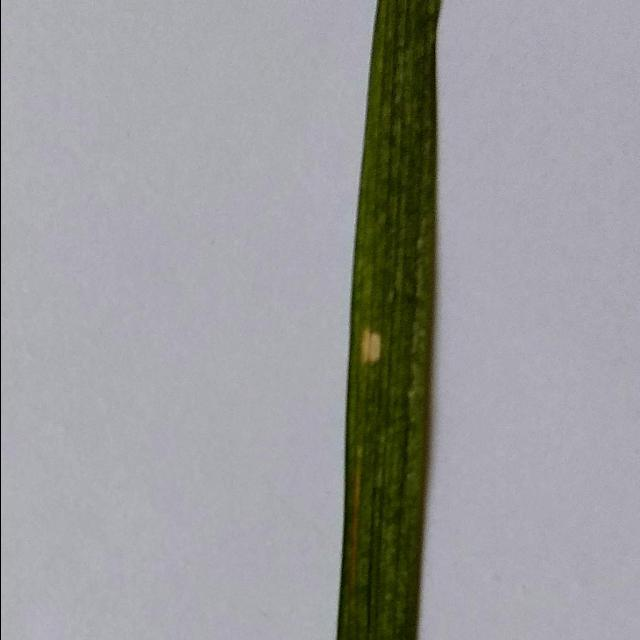Leaf_Blast: (341, 315, 384, 375)
